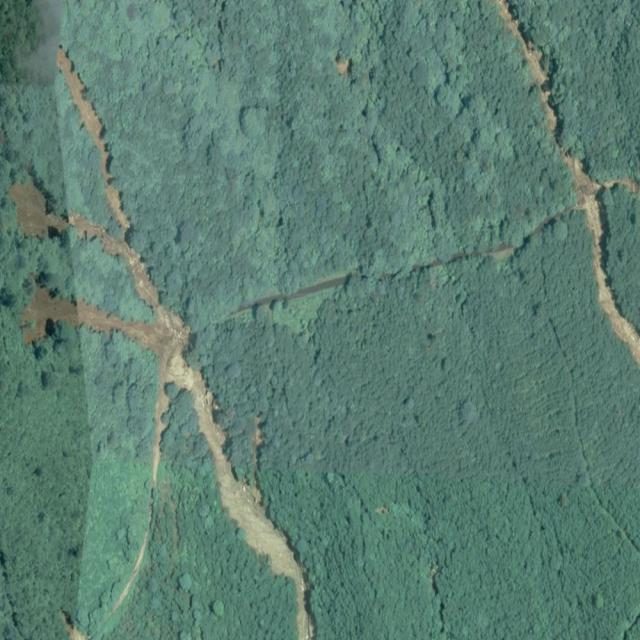landslide: (22, 46, 314, 640), (498, 0, 640, 364), (562, 146, 640, 364)
